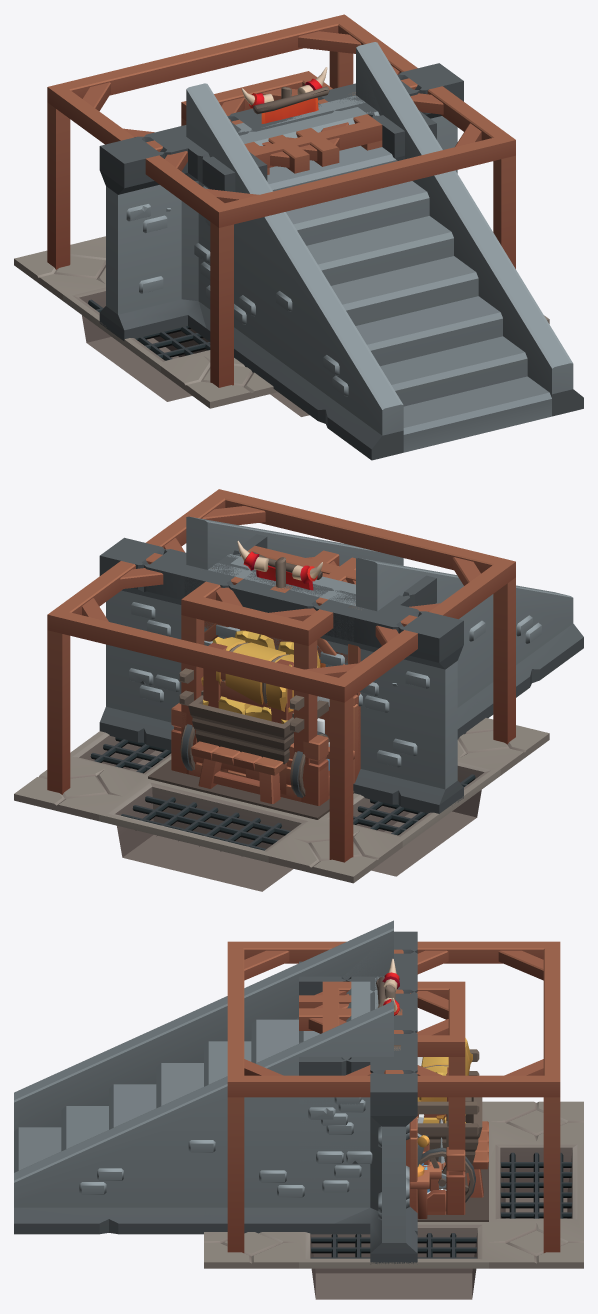
The model's file is props2.glb.
3 renders of one model, top to bottom at view 1: azimuth 30°, elevation 25°; view 2: azimuth 150°, elevation 25°; view 3: azimuth 270°, elevation 25°, orthographic. The views are drawn at different scales.
Visible parts, largest first — view 1: stairs_long, scaffold_frame_large, wall_doorway_Tsplit, stairs_long_modular_center, floor_tile_extralarge_grates, stairs_long_modular_right, scaffold_beams_connected, scaffold_frame_small, stairs_modular_left, stairs_long_modular_left, Orc_Banner_Large, wall_archedwindow_gated_scaffold (+3 smaller); view 2: floor_tile_extralarge_grates, wall_doorway_Tsplit, scaffold_frame_large, stairs_long, scaffold_frame_small, wall_archedwindow_gated_scaffold, wagon, scaffold_beams_connected, wagon_hay, table_long_decorated_B, ceiling_tile, wall_inset (+9 smaller); view 3: stairs_long, floor_tile_extralarge_grates, scaffold_frame_large, wall_doorway_Tsplit, scaffold_frame_small, stairs_long_modular_center, scaffold_beams_connected, stairs_long_modular_left, wagon, wall_archedwindow_gated_scaffold, stairs_modular_right, ceiling_tile (+11 smaller).
Part boxes in pixels (bbox=[...]): stairs_long: bbox=[186, 42, 583, 460]; scaffold_frame_large: bbox=[47, 14, 515, 387]; wall_doorway_Tsplit: bbox=[99, 63, 463, 340]; stairs_long_modular_center: bbox=[249, 103, 520, 440]; floor_tile_extralarge_grates: bbox=[14, 236, 549, 416]; stairs_long_modular_right: bbox=[325, 96, 551, 424]; scaffold_beams_connected: bbox=[84, 41, 478, 200]; scaffold_frame_small: bbox=[181, 71, 382, 174]; stairs_modular_left: bbox=[186, 89, 283, 382]; stairs_long_modular_left: bbox=[240, 131, 434, 452]; Orc_Banner_Large: bbox=[241, 67, 329, 123]; wall_archedwindow_gated_scaffold: bbox=[185, 84, 366, 135]; floor_tile_extralarge_grates: bbox=[14, 718, 549, 891]; wall_doorway_Tsplit: bbox=[99, 534, 463, 813]; scaffold_frame_large: bbox=[47, 489, 515, 862]; stairs_long: bbox=[186, 516, 583, 737]; scaffold_frame_small: bbox=[181, 545, 355, 802]; wall_archedwindow_gated_scaffold: bbox=[184, 562, 366, 773]; wagon: bbox=[179, 668, 328, 764]; scaffold_beams_connected: bbox=[84, 516, 479, 659]; wagon_hay: bbox=[201, 630, 320, 723]; table_long_decorated_B: bbox=[191, 741, 286, 803]; ceiling_tile: bbox=[148, 760, 354, 819]; wall_inset: bbox=[184, 567, 346, 665]; stairs_long: bbox=[14, 920, 393, 1234]; floor_tile_extralarge_grates: bbox=[204, 1101, 583, 1299]; scaffold_frame_large: bbox=[227, 941, 560, 1252]; wall_doorway_Tsplit: bbox=[299, 931, 417, 1264]; scaffold_frame_small: bbox=[322, 981, 465, 1171]; stairs_long_modular_center: bbox=[14, 991, 374, 1160]; scaffold_beams_connected: bbox=[299, 941, 488, 1097]; stairs_long_modular_left: bbox=[14, 981, 374, 1146]; wagon: bbox=[417, 1049, 482, 1163]; wall_archedwindow_gated_scaffold: bbox=[370, 971, 417, 1206]; stairs_modular_right: bbox=[204, 1015, 393, 1232]; ceiling_tile: bbox=[417, 1163, 488, 1221].
Bounding box in the file's own units: 8 × 6.65 × 12.
Materials: 28 (27 with a texture image).
